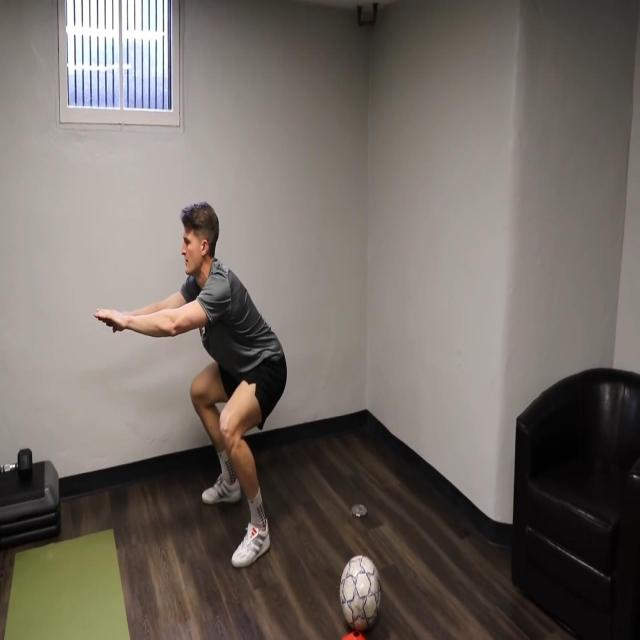Soccer Ball: (338, 554, 383, 637)
